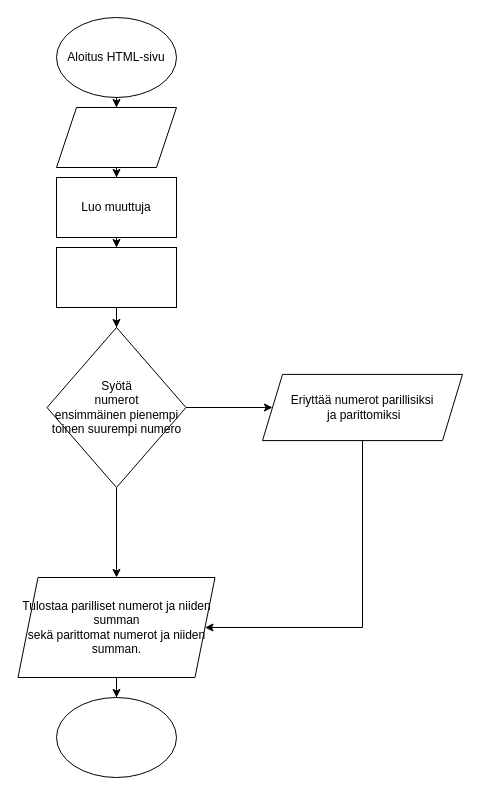
Image size: 480x795. Some labels were removed from this diagram. Each missing label, with the box of its shape:
Lue muuttujaan käyttäjän valinta: (56, 246, 176, 308)
Pyydä käyttäjältä luvut: (56, 106, 176, 168)
The End: (56, 696, 176, 778)
